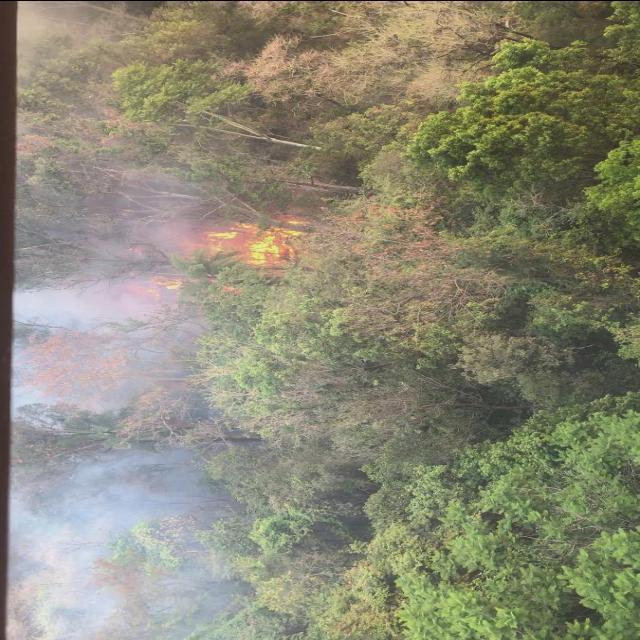Fire: (184, 222, 298, 260), (121, 276, 181, 294)
